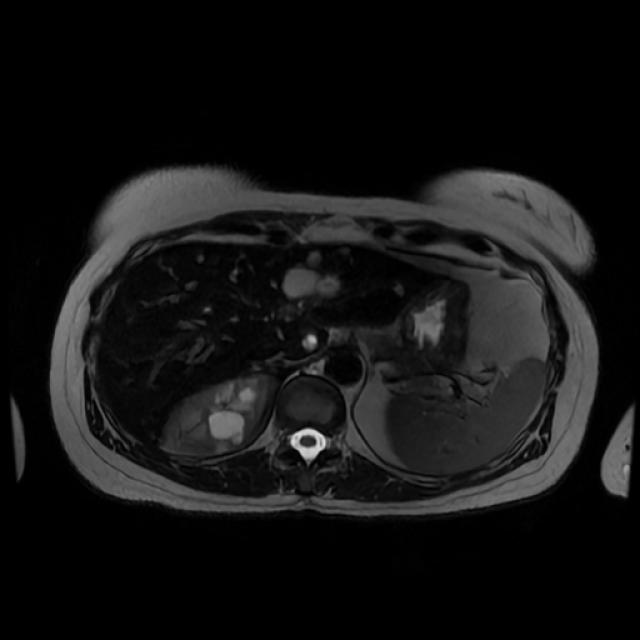sag: (163, 371, 278, 449)
